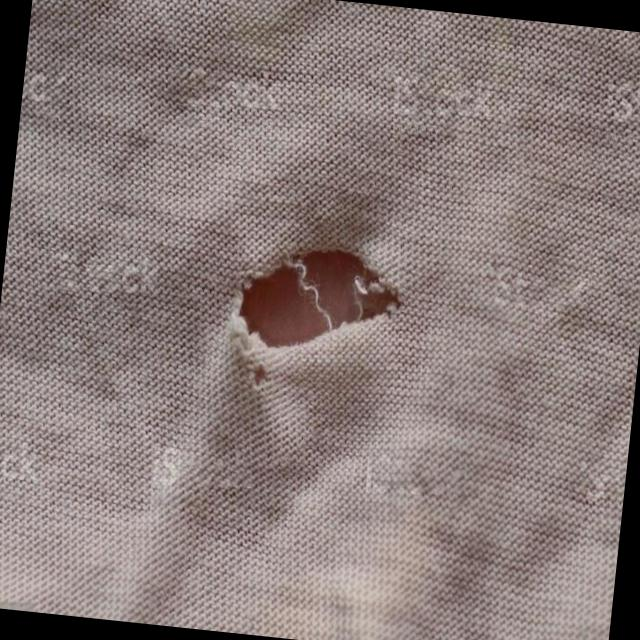cut: (222, 228, 408, 400)
